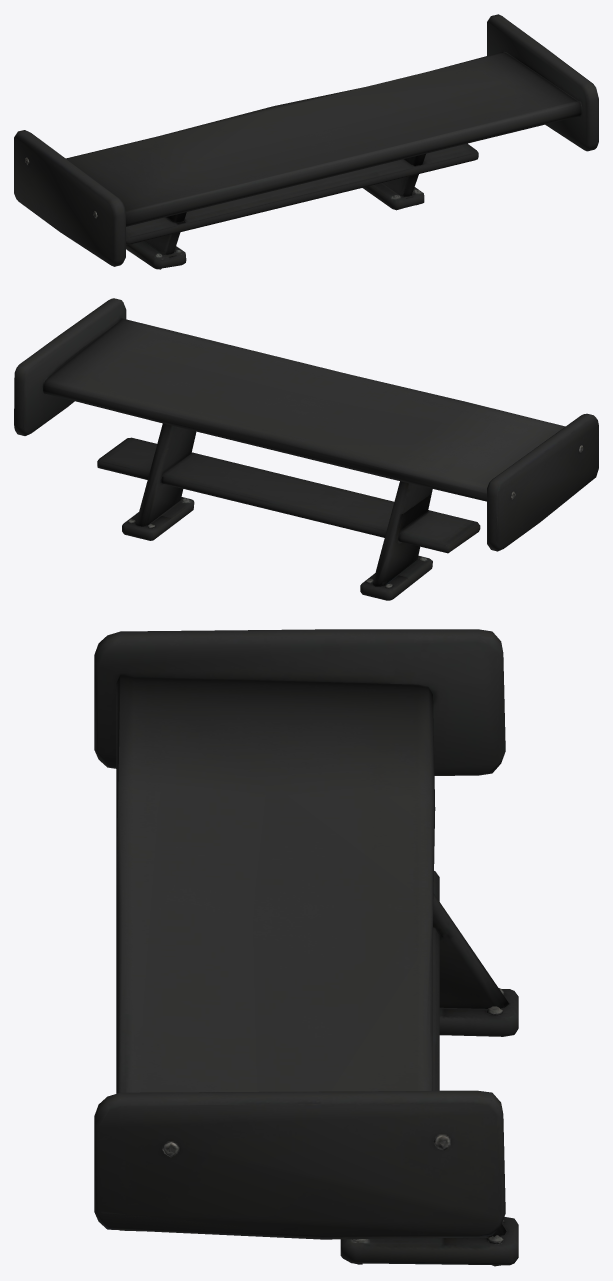
Rendered from donnerbuechse-rear_spoiler.glb.
3 renders of one model, top to bottom at view 1: azimuth 30°, elevation 25°; view 2: azimuth 150°, elevation 25°; view 3: azimuth 270°, elevation 25°, orthographic. The views are drawn at different scales.
Visible parts, largest first — view 1: tripo_node_1a920ca8-f85e-438d-bfc8-f470cfbbec44; view 2: tripo_node_1a920ca8-f85e-438d-bfc8-f470cfbbec44; view 3: tripo_node_1a920ca8-f85e-438d-bfc8-f470cfbbec44.
Part boxes in pixels (x1,y1,x2,y2): tripo_node_1a920ca8-f85e-438d-bfc8-f470cfbbec44: (14, 14, 598, 269); tripo_node_1a920ca8-f85e-438d-bfc8-f470cfbbec44: (14, 298, 598, 600); tripo_node_1a920ca8-f85e-438d-bfc8-f470cfbbec44: (94, 629, 518, 1266).
Size of the model in its own units: 1.15 by 0.3173 by 0.4343.
1 material, 1 textured.
